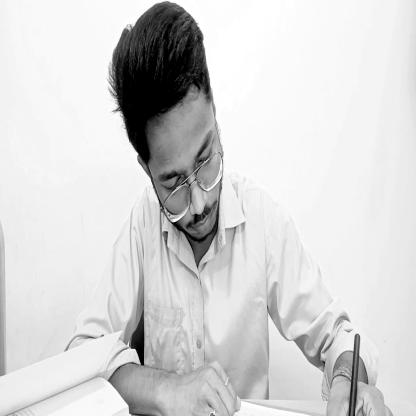Distracted: (110, 11, 224, 253)
